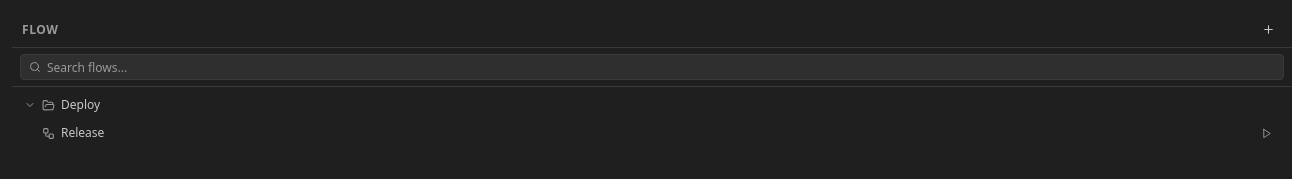
Test: FlowPanel context menu › offers Run, Edit, Duplicate, Export and Delete on right click
Right-click the text "Release".
right_click(83, 132)  # box [61,124,104,141]
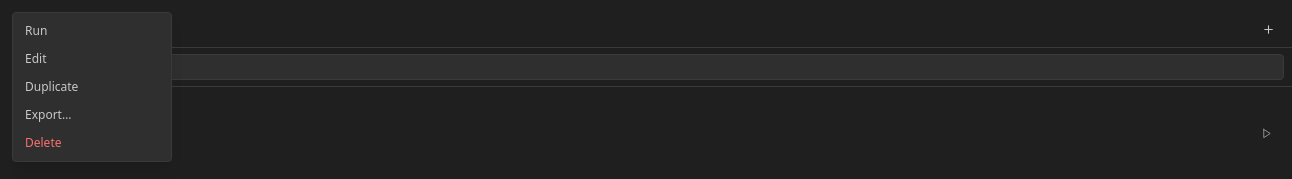
Expected: the button "Run" is shown, [13,17,171,45]
Expected: the button "Edit" is shown, [13,45,171,73]
Expected: the button "Duplicate" is shown, [13,73,171,101]
